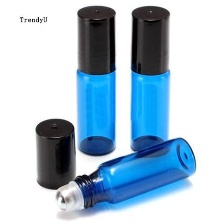bottle: (44, 134, 203, 217), (127, 4, 183, 158), (71, 4, 119, 157)
